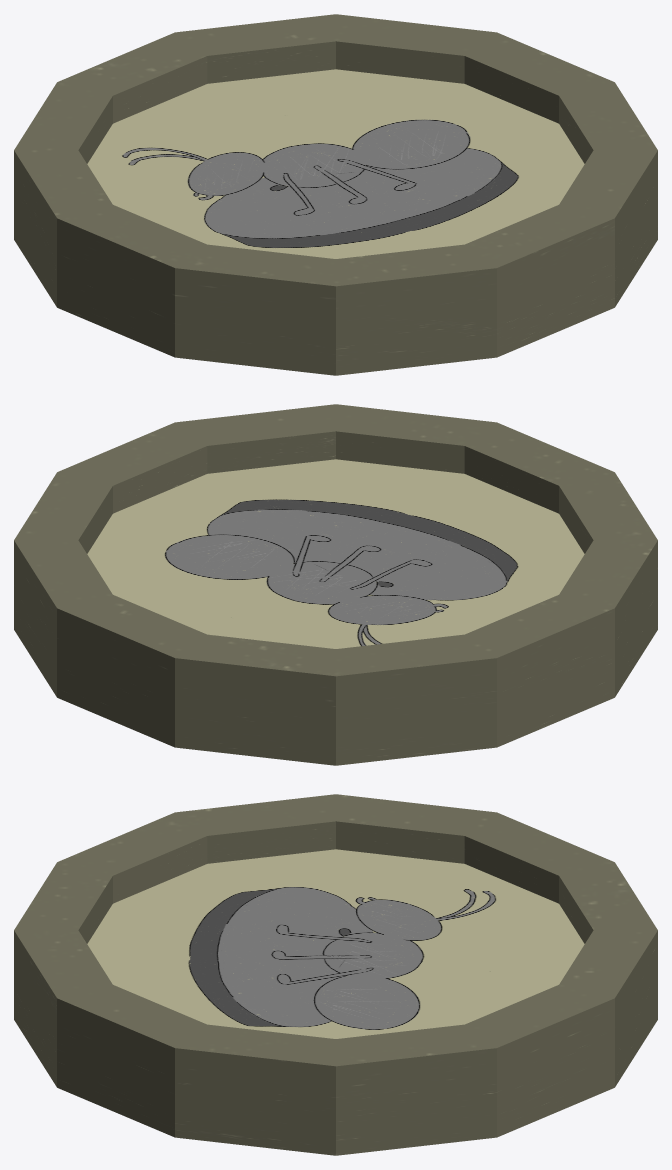
File: AntStatueSign.fbx
The picture shows the model from 3 angles, top to bottom: view 1: azimuth 30°, elevation 25°; view 2: azimuth 150°, elevation 25°; view 3: azimuth 270°, elevation 25°; orthographic projection.
Visible parts, largest first — view 1: pCylinder4; view 2: pCylinder4; view 3: pCylinder4.
Boxes of the visible parts, x1,y1,x2,y2 form: pCylinder4: [14, 14, 657, 375]; pCylinder4: [14, 404, 657, 765]; pCylinder4: [14, 794, 657, 1155].
Size of the model in its own units: 2.51 by 0.3845 by 2.51.
